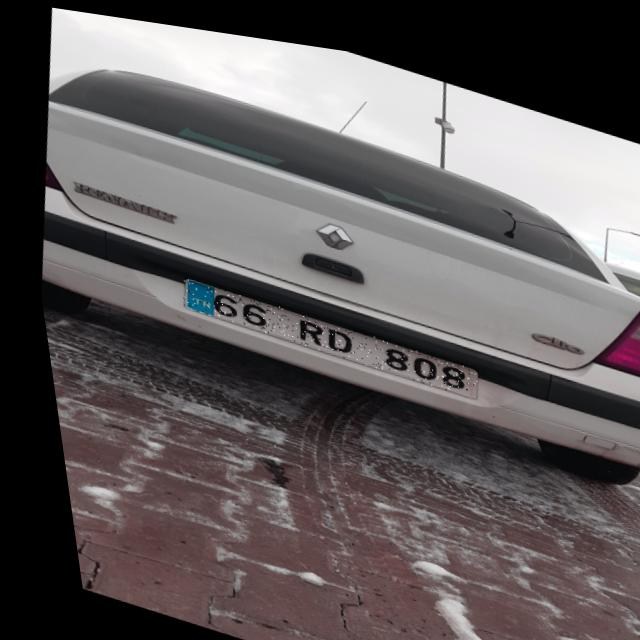license_plate: (171, 271, 473, 387)
